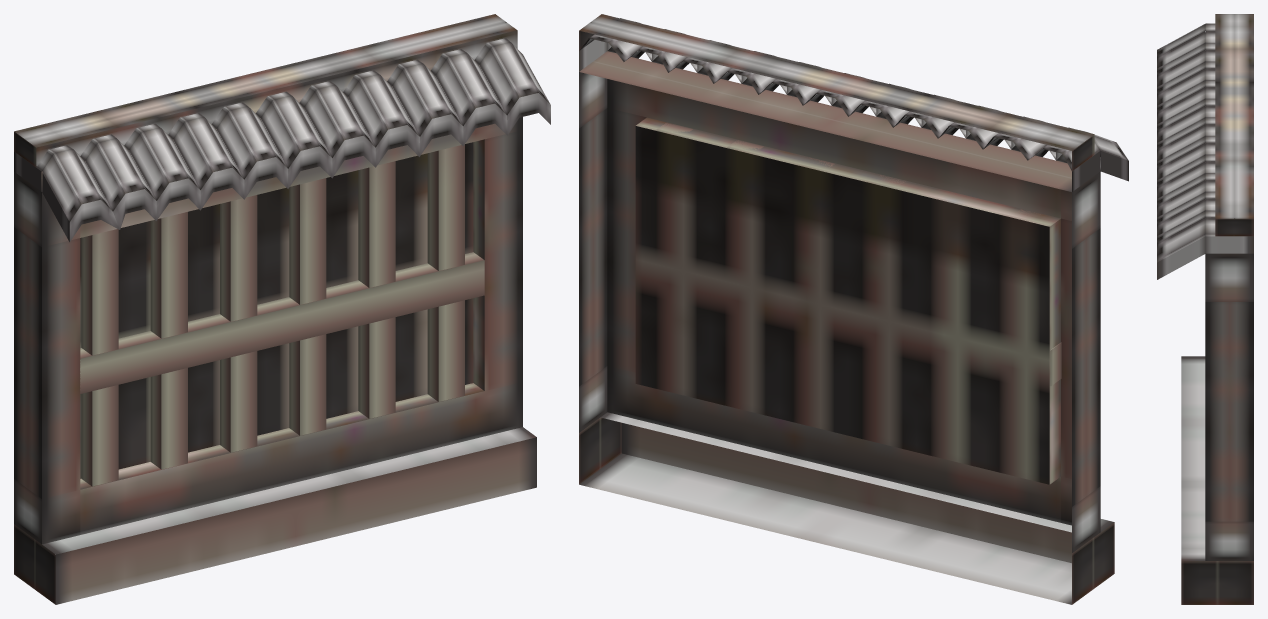
The model's file is Poly_SF_Outside_B_Window_11.obj.
3 renders of one model, left to right at view 1: azimuth 30°, elevation 25°; view 2: azimuth 150°, elevation 25°; view 3: azimuth 270°, elevation 25°, orthographic. The views are drawn at different scales.
Parts seen in each view (by area): view 1: Cube.001, Cube.002, Cube.004, Cube.003; view 2: Cube.001, Cube.002, Cube.003, Cube.004; view 3: Cube.002, Cube.001, Cube.003.
Boxes of the visible parts, x1,y1,x2,y2 form: Cube.001: [14, 65, 522, 544]; Cube.002: [14, 38, 550, 604]; Cube.004: [80, 144, 484, 486]; Cube.003: [14, 14, 517, 167]; Cube.001: [579, 51, 1100, 552]; Cube.002: [579, 18, 1128, 604]; Cube.003: [579, 14, 1094, 171]; Cube.004: [655, 122, 1061, 386]; Cube.002: [1157, 23, 1253, 604]; Cube.001: [1205, 253, 1253, 560]; Cube.003: [1215, 14, 1253, 236].
Bounding box in the file's own units: 1 × 0.88 × 0.2.
Materials: 1 (1 with a texture image).
